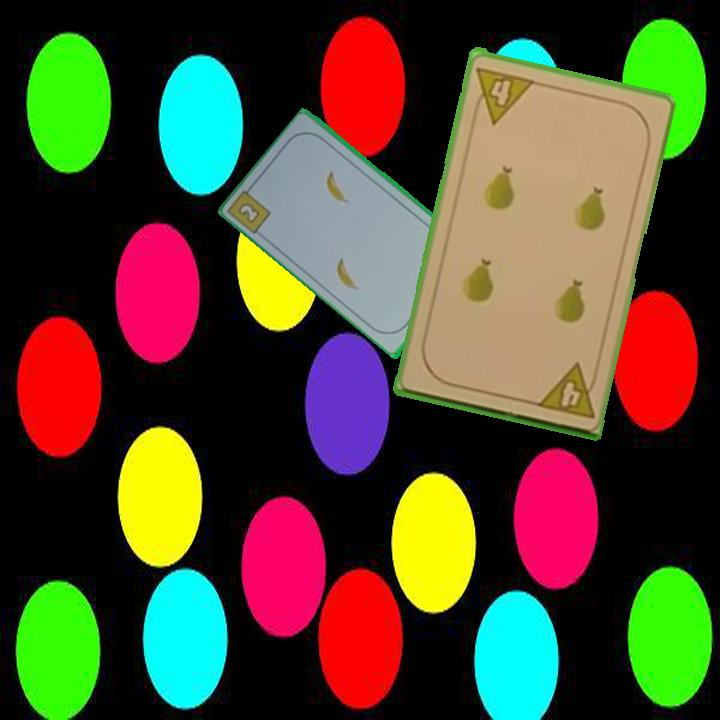2b: (235, 199, 264, 226)
4p: (468, 62, 538, 126), (532, 360, 601, 422)
